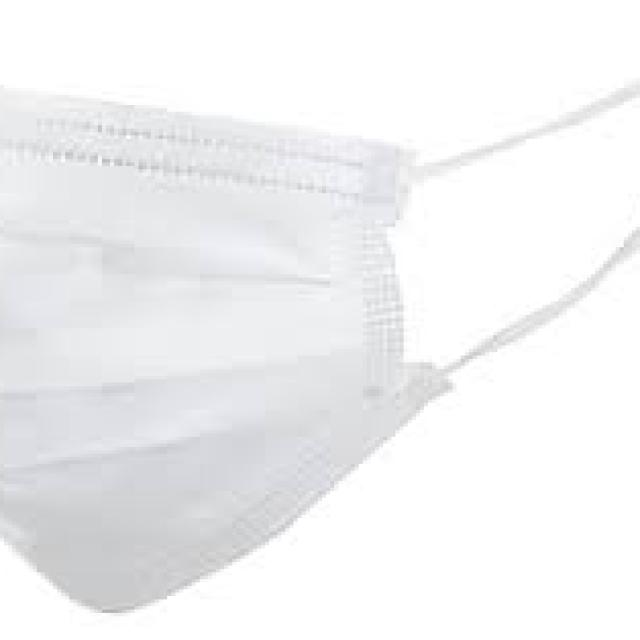organic: (10, 83, 595, 614)
